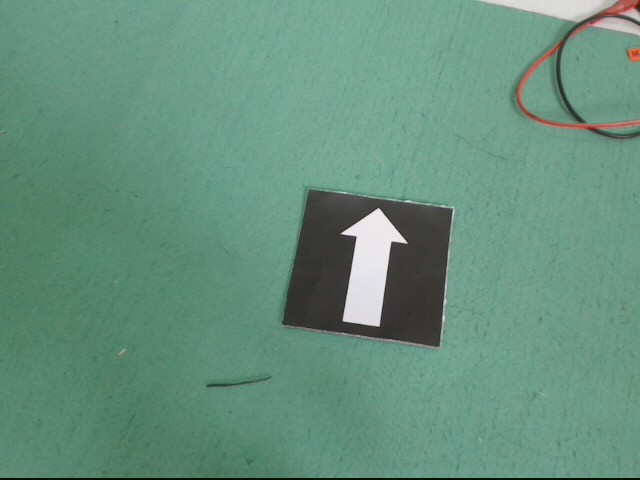straight: (281, 190, 453, 344)
